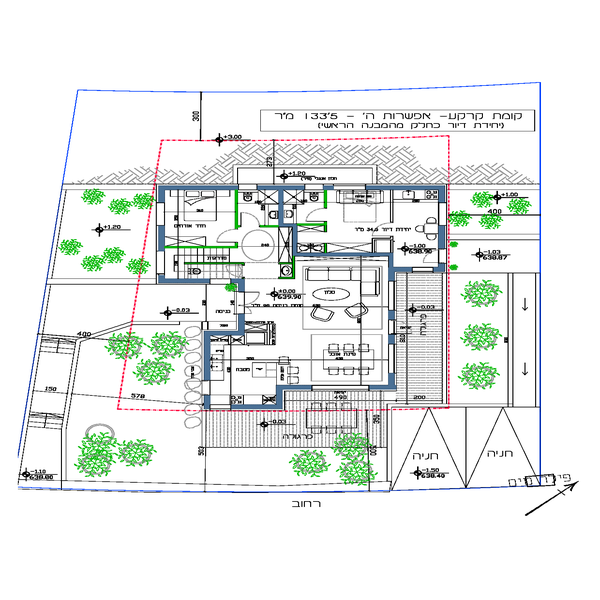door: (232, 290, 263, 314), (418, 244, 445, 269), (217, 226, 236, 245), (309, 209, 333, 224), (241, 212, 262, 229), (375, 222, 396, 238)
wall: (294, 251, 392, 258), (156, 184, 237, 191), (204, 330, 214, 382), (367, 184, 445, 190), (232, 404, 287, 412), (257, 184, 303, 191), (275, 387, 313, 394)
